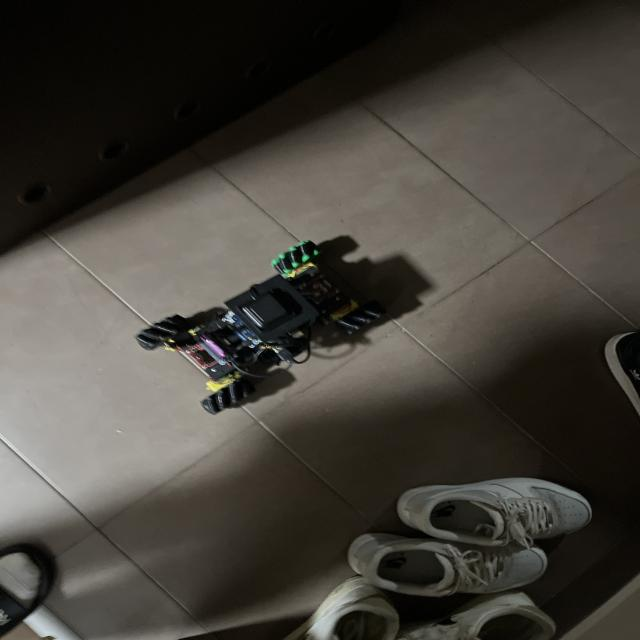robot: (135, 241, 386, 413)
